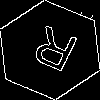R: (25, 25, 81, 82)
